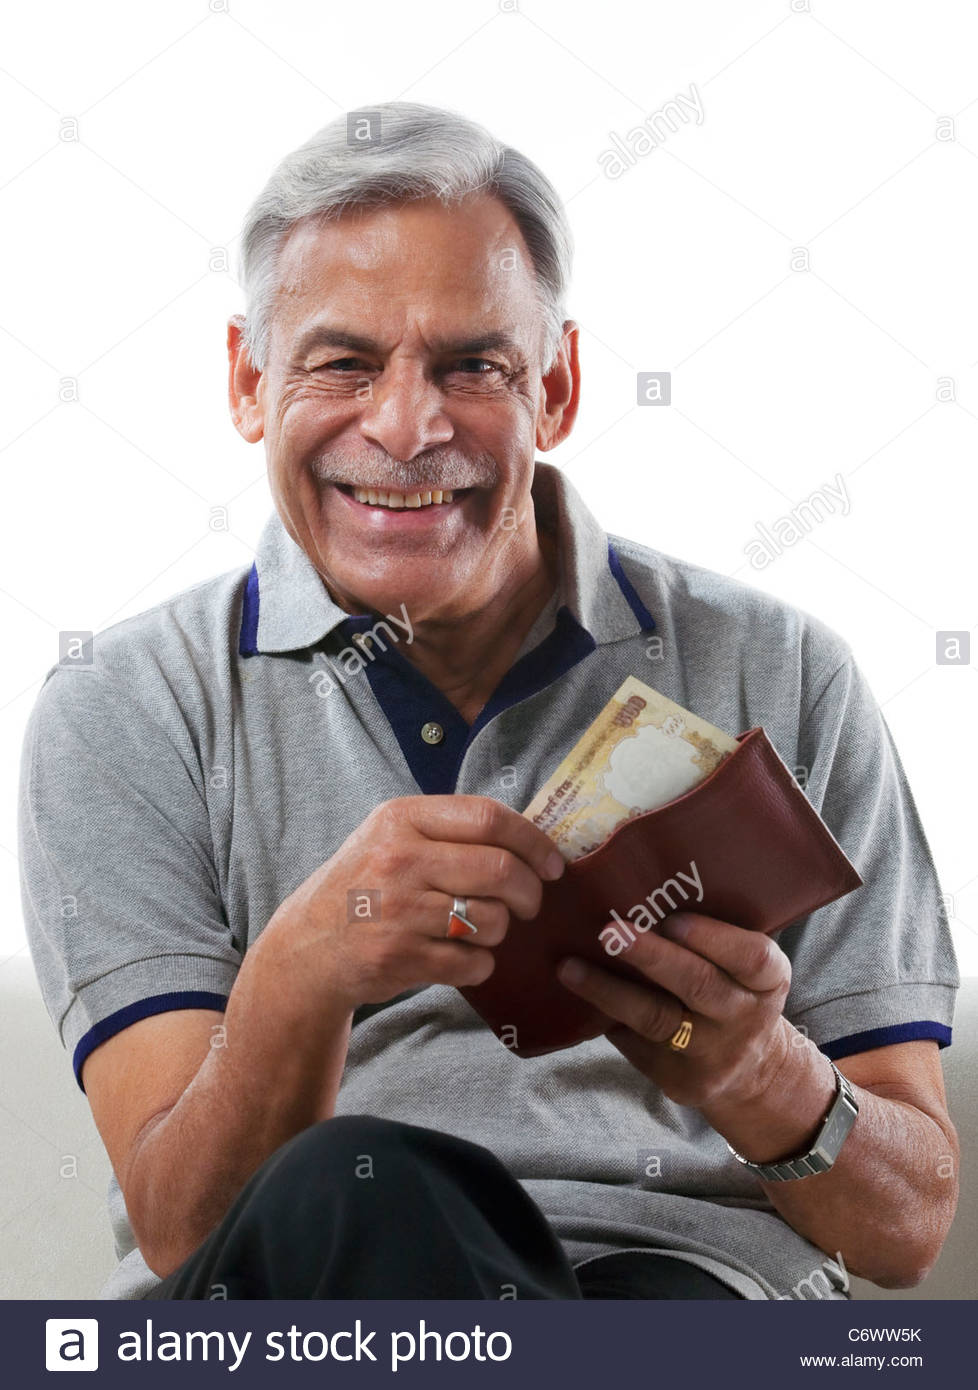monedero: (443, 721, 879, 1061)
